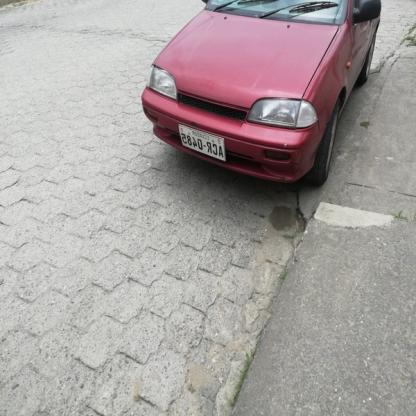Placa: (172, 120, 228, 159)
